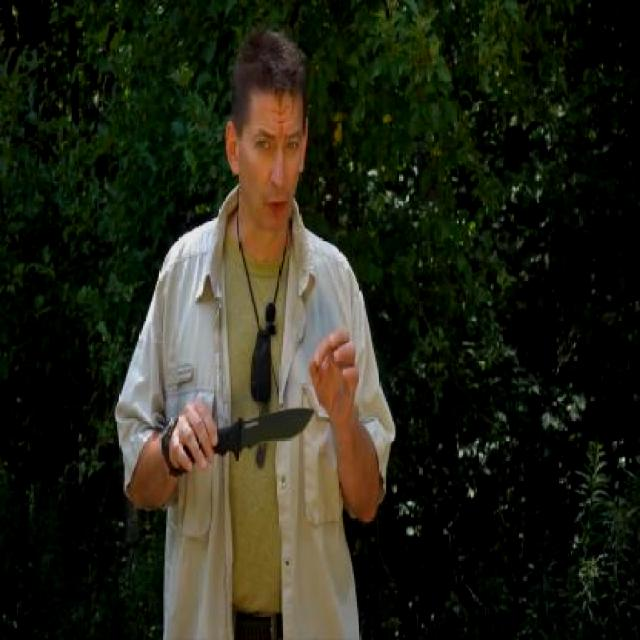knife: (183, 395, 315, 477)
